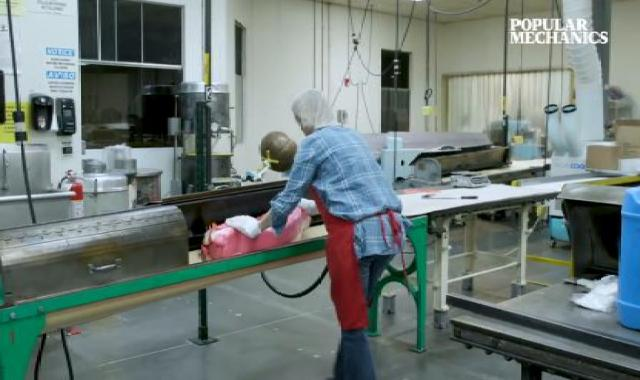hairnet: (292, 87, 360, 142)
